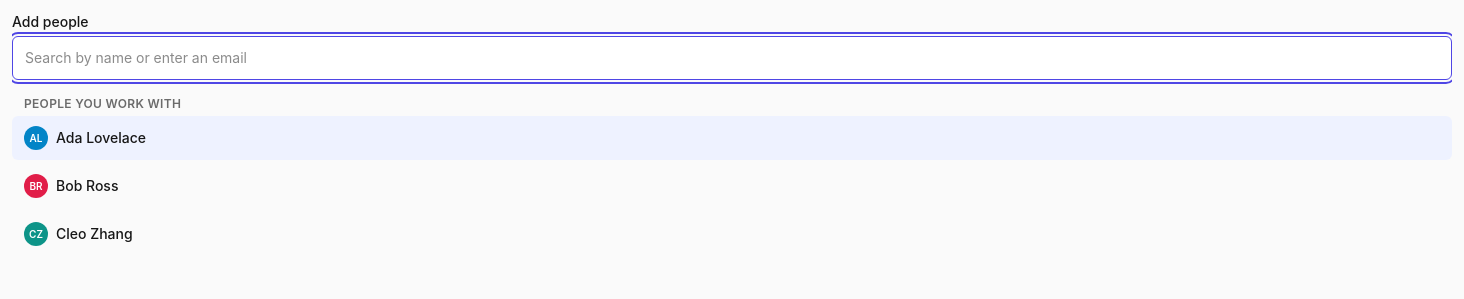
Scenario: MemberPicker › invites once when Enter is held down on the invite row
The image size is (1464, 299).
In the field labelled "Add people": (732, 58) [12,36,1452,80], type "ghost@example.com"
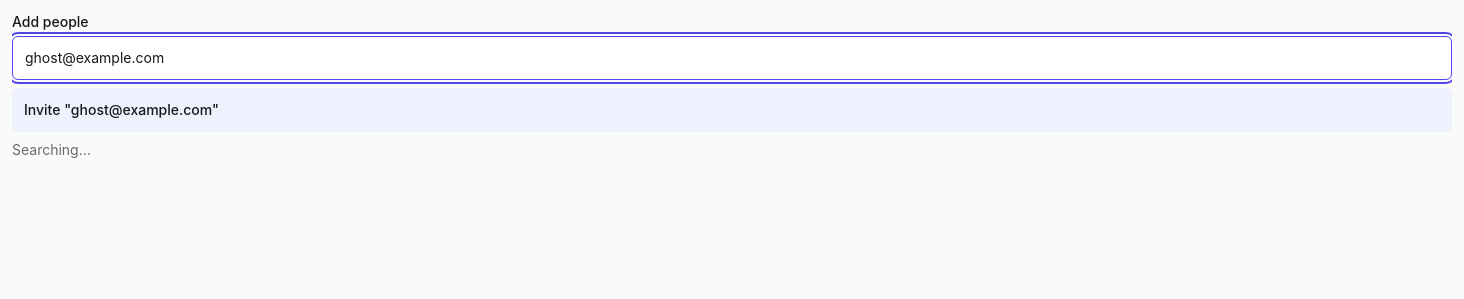
Press Enter in the field labelled "Add people", box [12,36,1452,80]
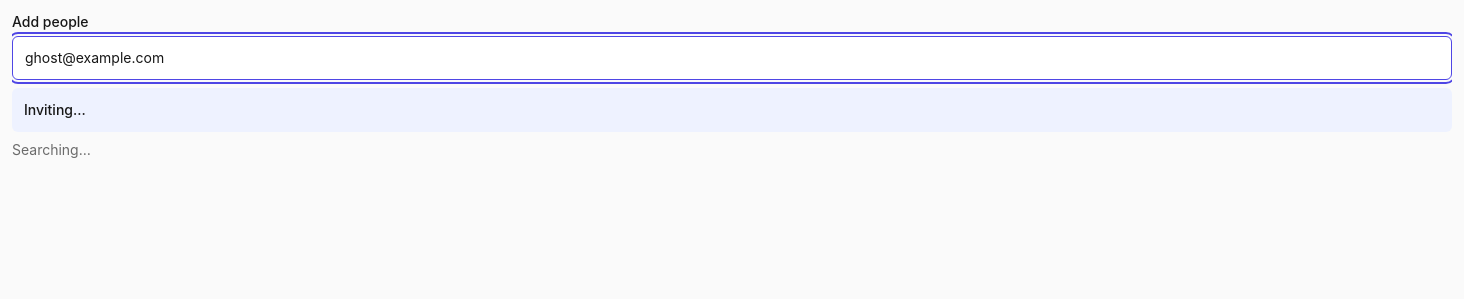
Press Enter in the field labelled "Add people", box [12,36,1452,80]
Wait 500 ms
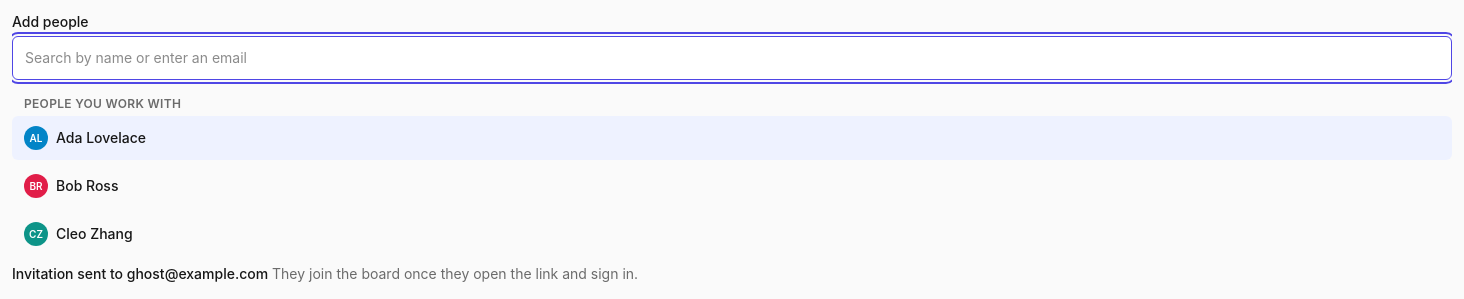
Expected: the text "Invitation sent to ghost@example.com" is shown, [12,265,268,282]
